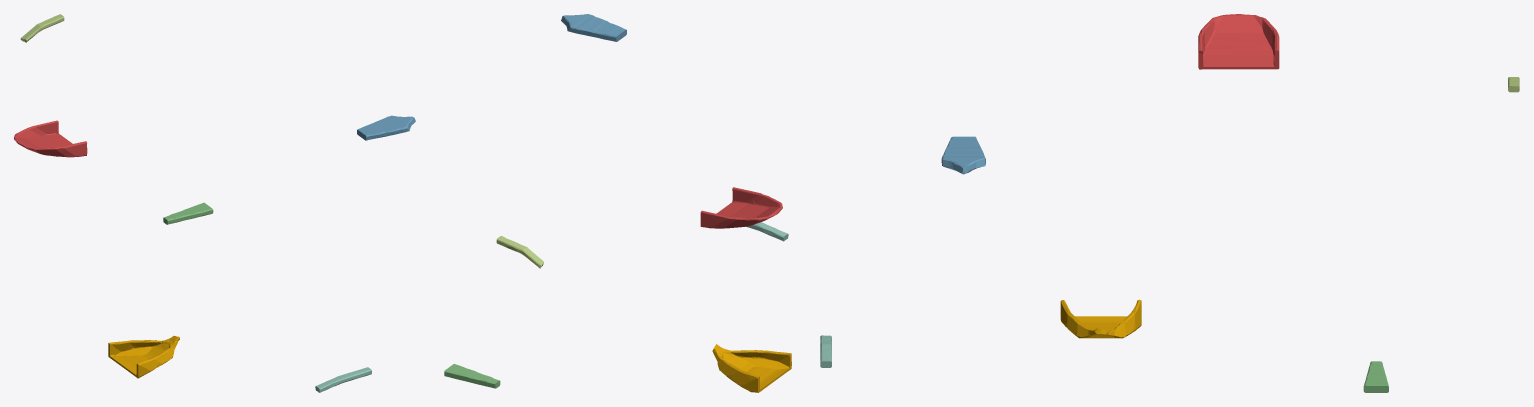
Rendered from mode_6_6pcs_transformed.glb.
3 views of the same model, side by side, from view 1: azimuth 30°, elevation 25°; view 2: azimuth 150°, elevation 25°; view 3: azimuth 270°, elevation 25° (orthographic). The views are drawn at different scales.
Visible parts, largest first — view 1: piece_0.obj, piece_1.obj, piece_2.obj, piece_3.obj, piece_4.obj, piece_5.obj; view 2: piece_0.obj, piece_1.obj, piece_2.obj, piece_3.obj, piece_5.obj, piece_4.obj; view 3: piece_1.obj, piece_0.obj, piece_2.obj, piece_3.obj.
Part boxes in pixels (x1,y1,x2,y2): piece_0.obj: (108,336,179,378); piece_1.obj: (14,120,87,157); piece_2.obj: (357,115,415,140); piece_3.obj: (163,202,213,224); piece_4.obj: (315,367,371,392); piece_5.obj: (20,14,64,42); piece_0.obj: (712,344,791,392); piece_1.obj: (700,187,782,228); piece_2.obj: (561,14,626,41); piece_3.obj: (444,364,500,388); piece_5.obj: (496,236,543,268); piece_4.obj: (746,222,788,241); piece_1.obj: (1198,14,1279,69); piece_0.obj: (1060,299,1141,338); piece_2.obj: (941,136,985,174); piece_3.obj: (1363,361,1388,392).
Bounding box in the file's own units: 1 × 0.7481 × 1.53.
